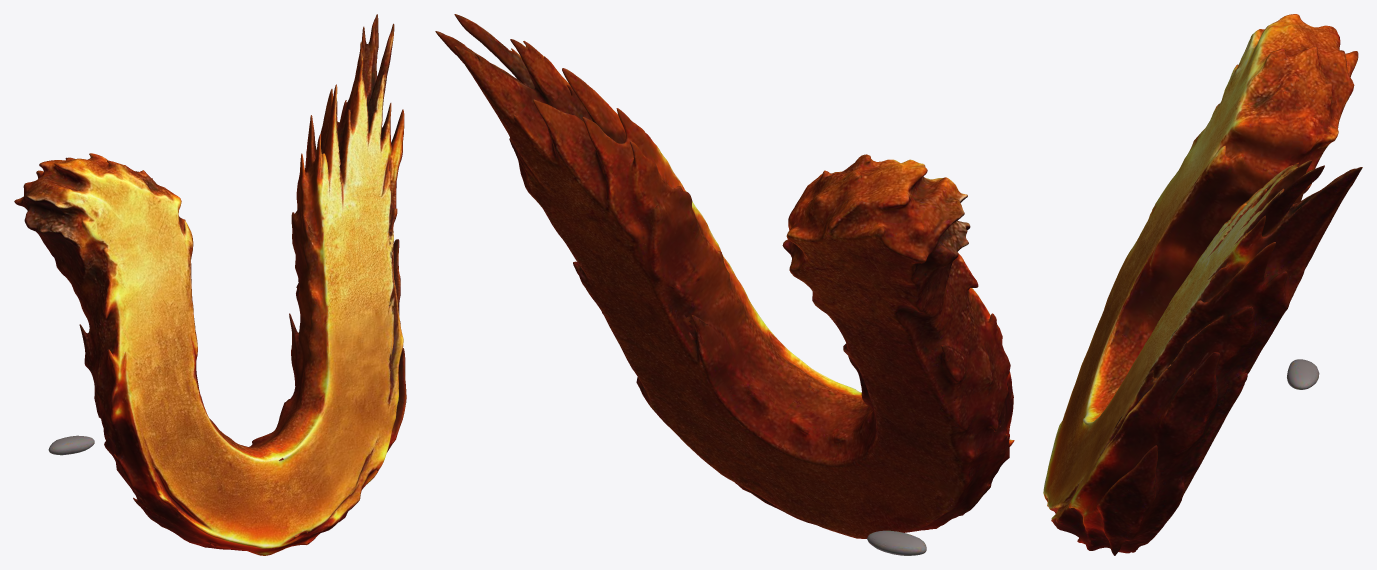
Rendered from letter-u.glb.
The picture shows the model from 3 angles, left to right: view 1: azimuth 30°, elevation 25°; view 2: azimuth 150°, elevation 25°; view 3: azimuth 270°, elevation 25°; orthographic projection. The views are drawn at different scales.
Visible parts, largest first — view 1: tripo_node_064169db; view 2: tripo_node_064169db; view 3: tripo_node_064169db.
Part boxes in pixels (bbox=[...]): tripo_node_064169db: bbox=[14, 14, 406, 555]; tripo_node_064169db: bbox=[435, 14, 1014, 555]; tripo_node_064169db: bbox=[1043, 14, 1362, 555].
Bounding box in the file's own units: 0.9418 × 0.9771 × 0.5642.
Materials: 1 (1 with a texture image).
